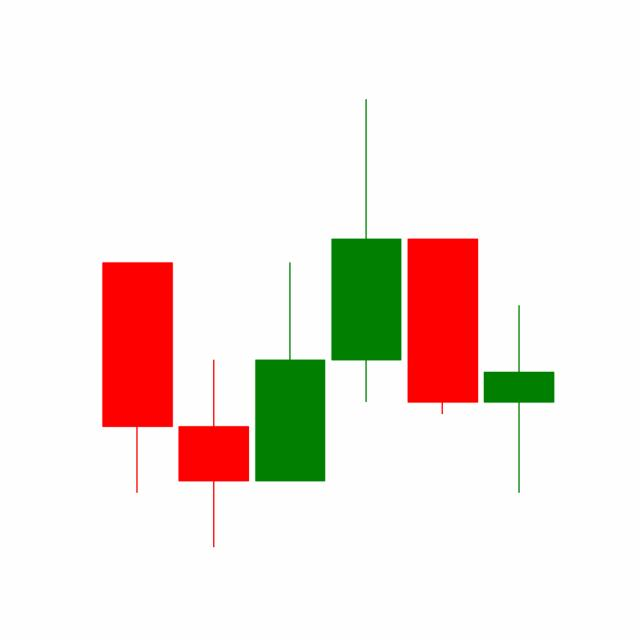Marubozu: (403, 236, 481, 417)
